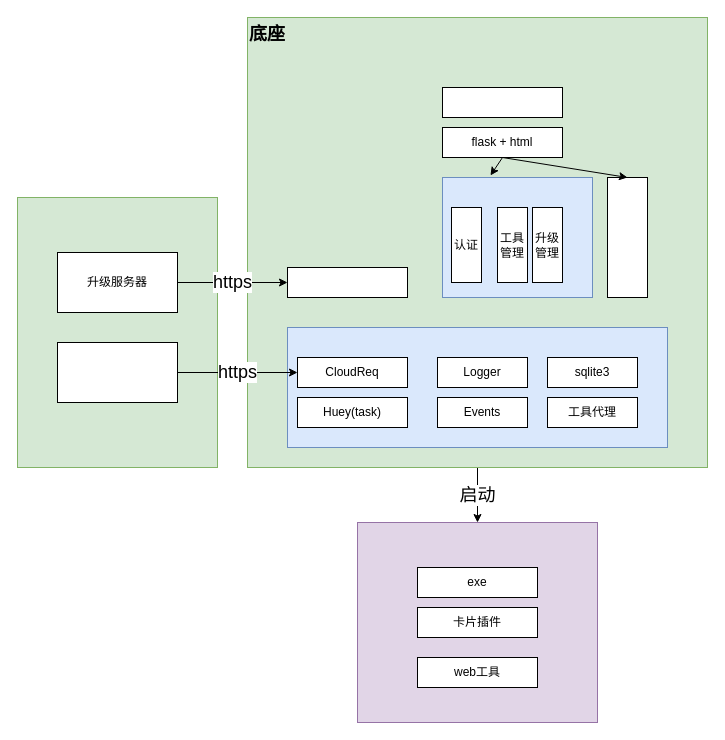
Image size: 725x740. Some labels were removed from this diagram. The shapes that lost their labels are listed below. From the top down, each one's box as (x1, y1, x2, y2) in pixels, then its label:
(442, 86, 562, 118): electron
(442, 176, 592, 298): 业务
(606, 176, 648, 298): 消息推送
(286, 266, 408, 298): ServerReq
(16, 196, 218, 468): 云端
(56, 342, 178, 402): 业务服务器
(286, 326, 668, 448): 公共能力
(356, 522, 598, 722): 子应用
